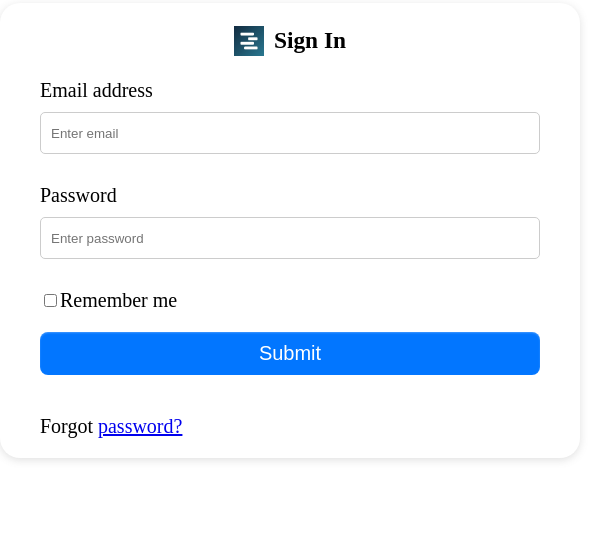
it: Test Login component › It should show error message when you type empty password
The image size is (599, 542).
Type "eve.holt@reqres.in" into the field labelled "Email address".
click(290, 133); type("eve.holt@reqres.in")  # box [40, 112, 540, 154]
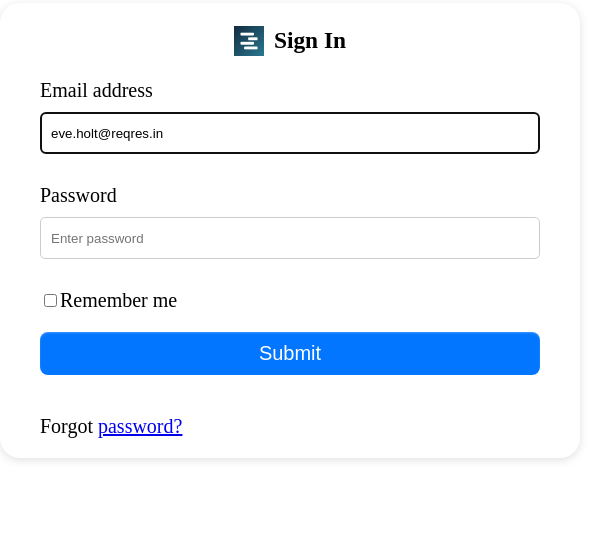
Click the button "Submit".
click(290, 354)  # box [40, 332, 540, 375]
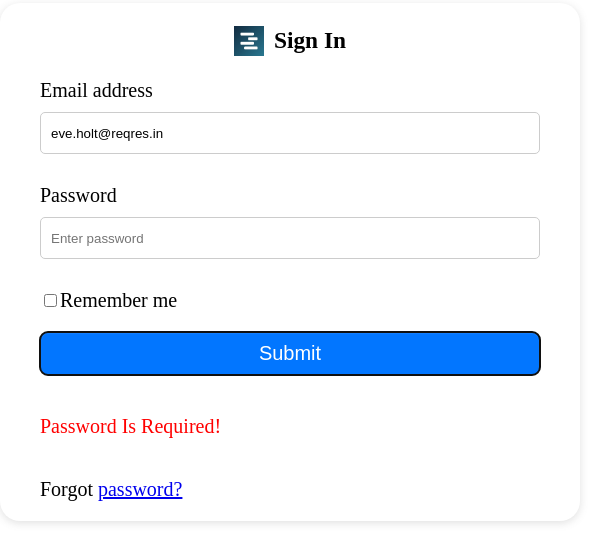
Expected: the text "Password is required!" is shown, [40, 415, 221, 437]
